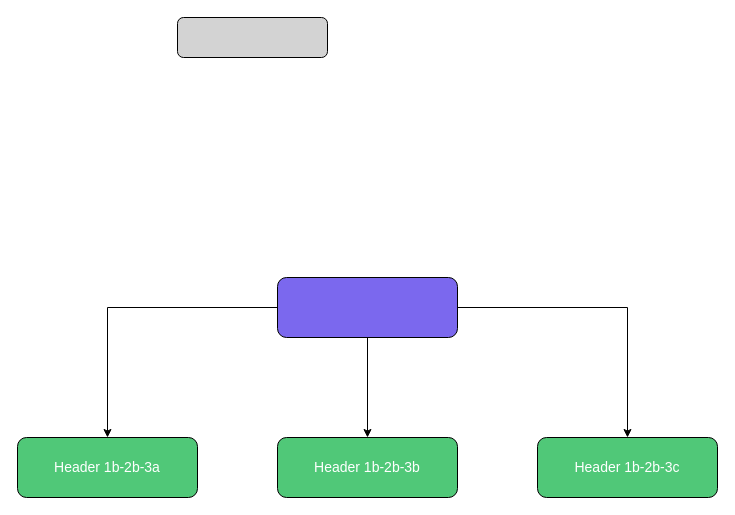
The diagram is 735 pixels wide and 515 high, and some of its shapes have lost their labels. Here are the shapes that lost their labels. From the top down, the box of each, then its label:
(176, 16, 328, 58): ← Back to Overview
(276, 276, 458, 338): Header 1b-2b
